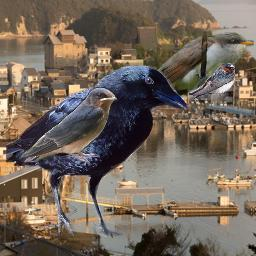Crow: (6, 65, 188, 240)
Cuckoo: (96, 31, 254, 114)
Swallow: (20, 87, 118, 166), (189, 63, 235, 100)
